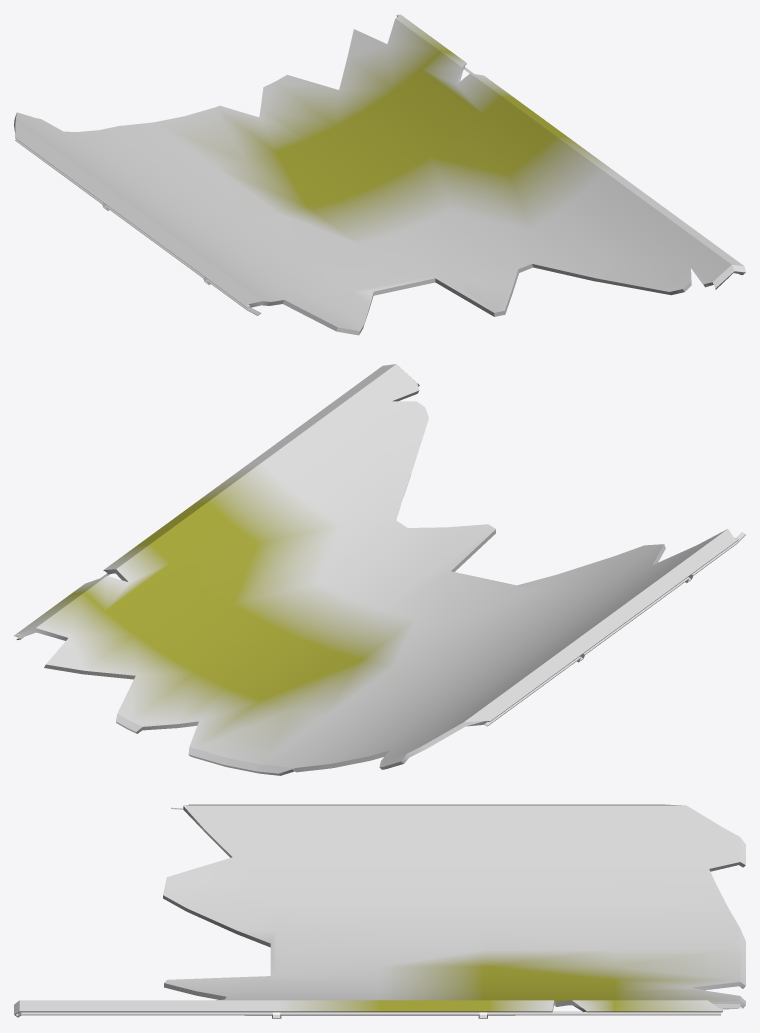
The model's file is part_main-lod0.dae.
3 renders of one model, top to bottom at view 1: azimuth 30°, elevation 25°; view 2: azimuth 150°, elevation 25°; view 3: azimuth 270°, elevation 25°, orthographic. The views are drawn at different scales.
Parts seen in each view (by area): view 1: part_main-lod0Xlod0Xp2genericXgen_p2_hulltexture_02_c; view 2: part_main-lod0Xlod0Xp2genericXgen_p2_hulltexture_02_c; view 3: part_main-lod0Xlod0Xp2genericXgen_p2_hulltexture_02_c.
Part boxes in pixels (x1,y1,x2,y2): part_main-lod0Xlod0Xp2genericXgen_p2_hulltexture_02_c: (14,14,745,335); part_main-lod0Xlod0Xp2genericXgen_p2_hulltexture_02_c: (14,364,745,775); part_main-lod0Xlod0Xp2genericXgen_p2_hulltexture_02_c: (14,804,745,1018).
Bounding box in the file's own units: 9.52 × 1.52 × 14.22.
